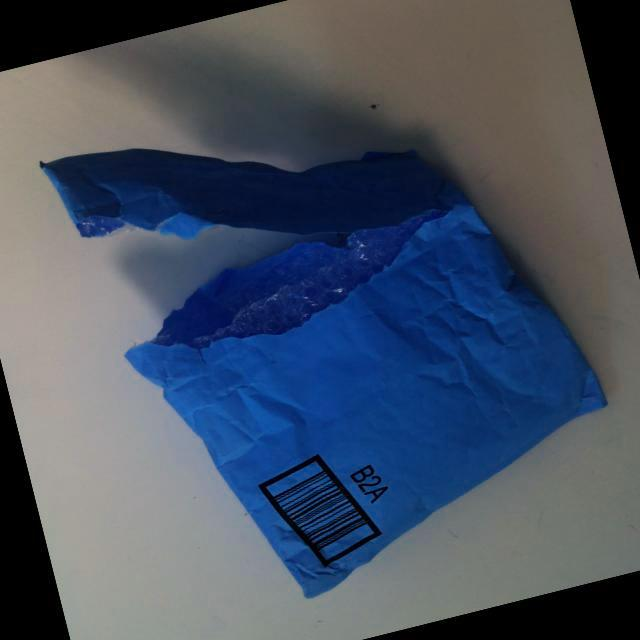paper: (37, 43, 633, 636)
plastic: (245, 290, 302, 336), (290, 258, 342, 308)
